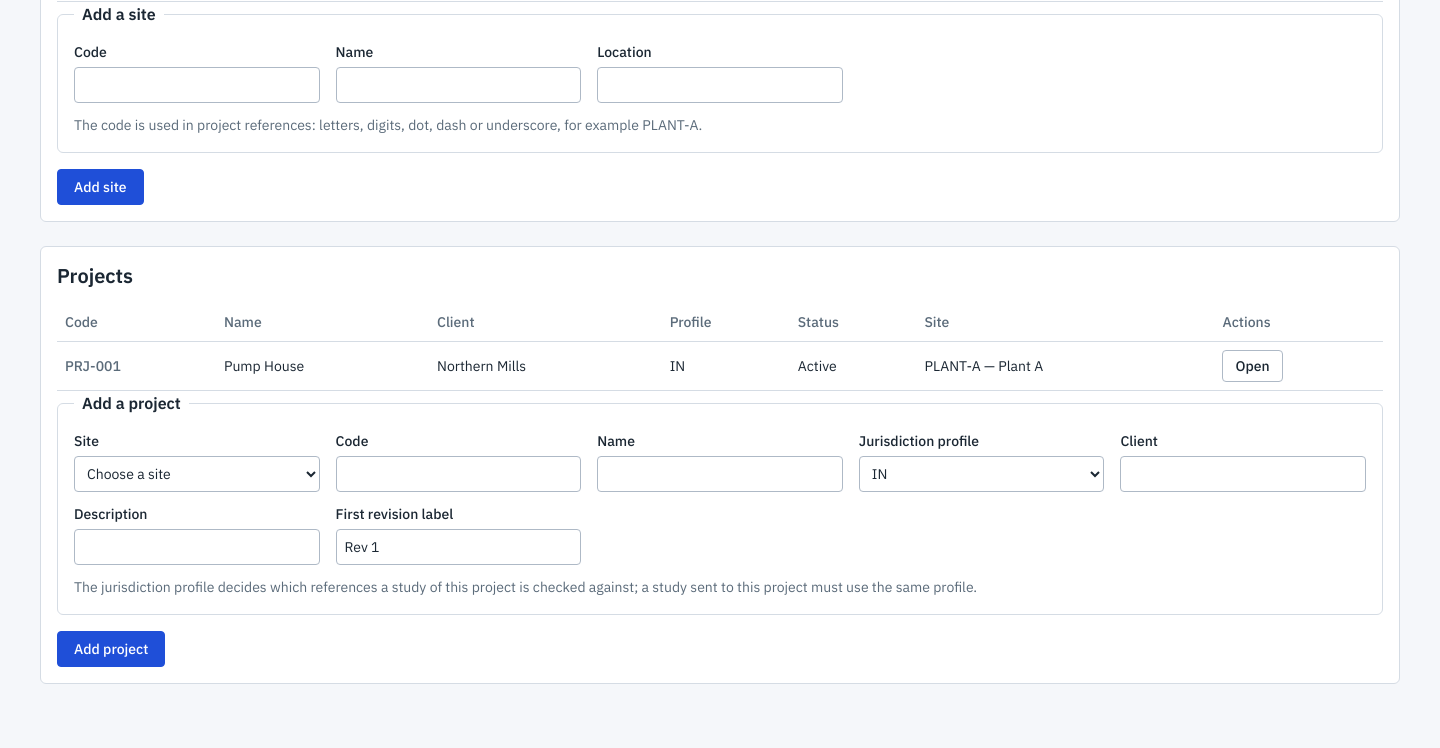
ProjectsPage › cannot work in a project that has no open revision
The width and height of the screenshot is (1440, 748).
(page scrolled)
Click the button "Open" at point(1253, 366), box [1222, 350, 1283, 382]
(page scrolled)
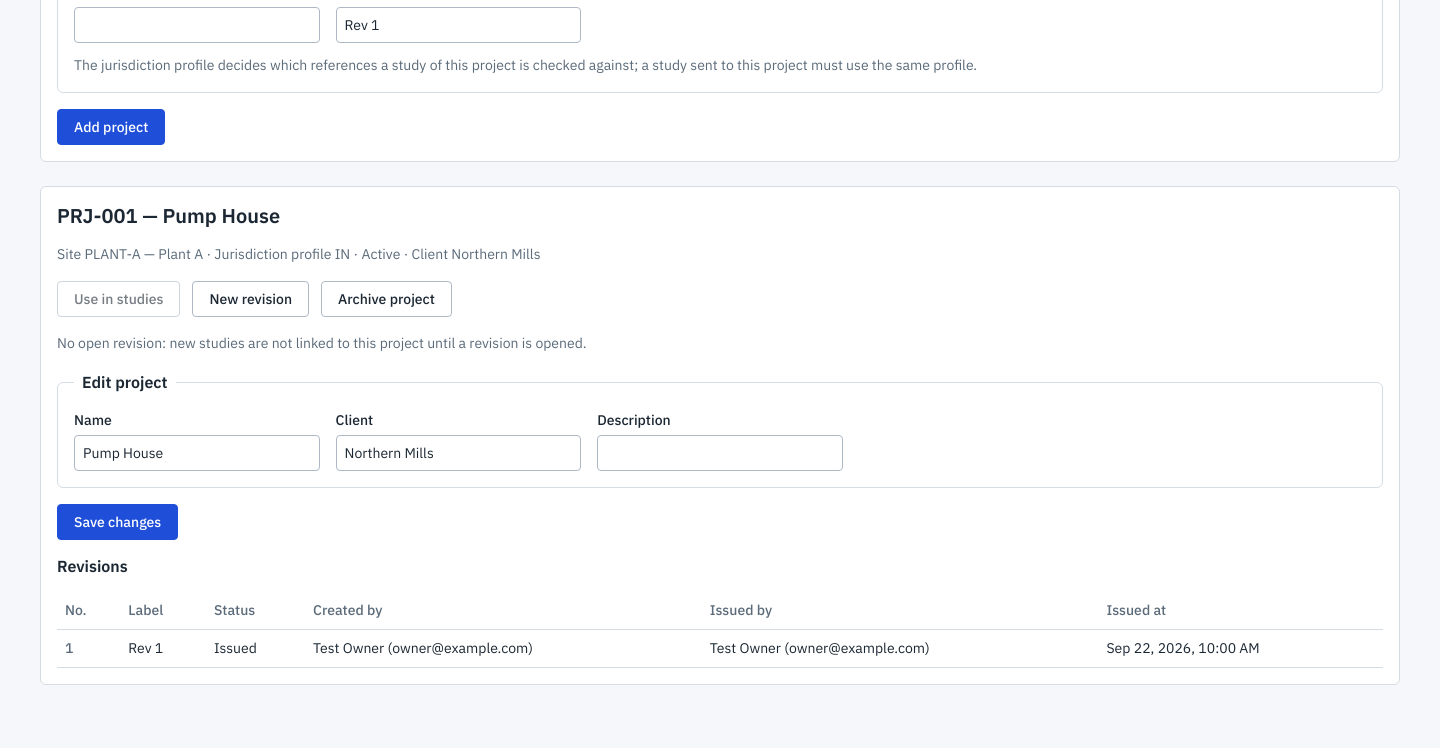
Result: the heading "PRJ-001 — Pump House" is shown at [57, 202, 280, 229]
Result: the button "Use in studies" is disabled at [57, 281, 180, 317]
Result: the text "No open revision: new studies are not linked to this project" is shown at [57, 334, 587, 352]
